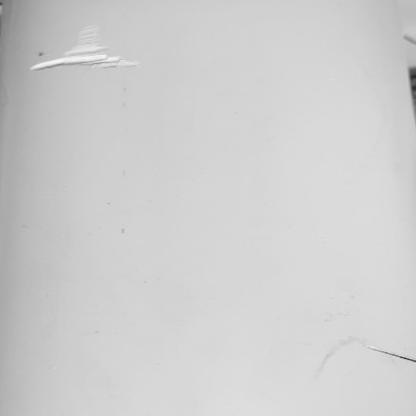fengxi: (359, 338, 416, 368)
sunshang: (27, 20, 136, 75)
